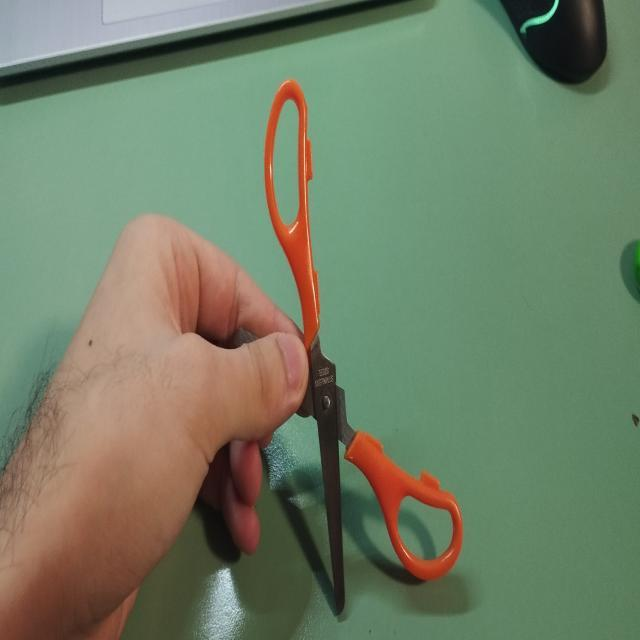tesoura: (221, 68, 468, 628)
